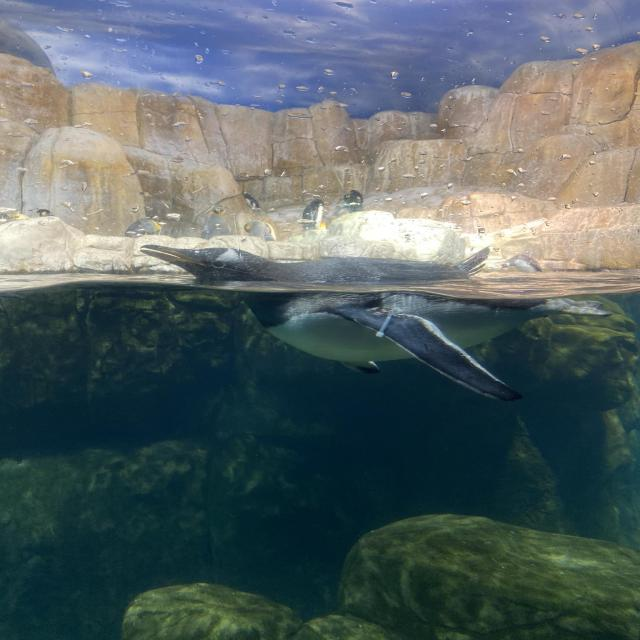penguin: (132, 232, 593, 391), (200, 202, 232, 246), (296, 197, 328, 236), (116, 212, 160, 238), (246, 214, 278, 242), (342, 188, 366, 216), (34, 203, 60, 224)
